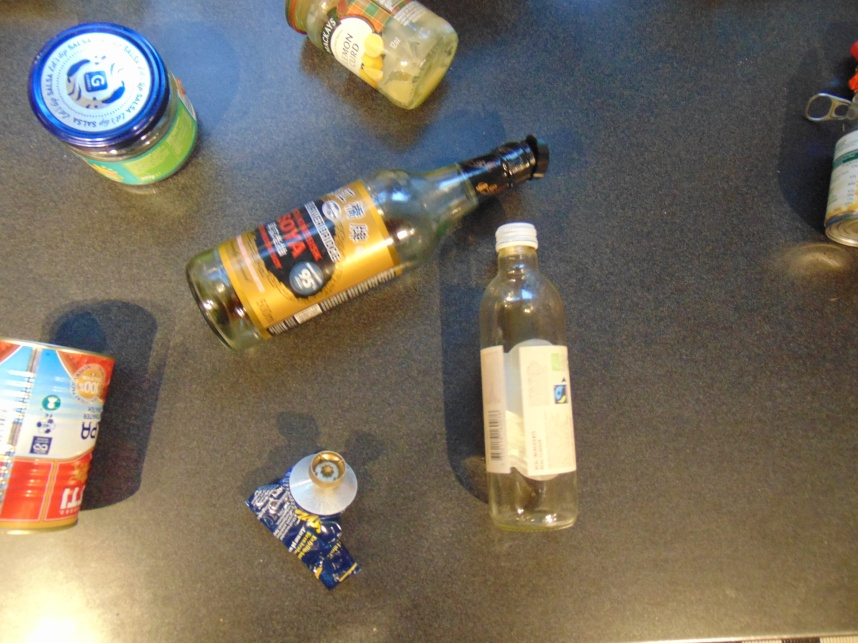glass_bottle: (187, 138, 535, 353), (476, 219, 583, 533), (31, 24, 200, 190), (282, 1, 460, 112)
metal: (244, 445, 362, 592), (802, 91, 858, 121)
metal_can: (1, 337, 113, 537), (827, 129, 858, 249)
